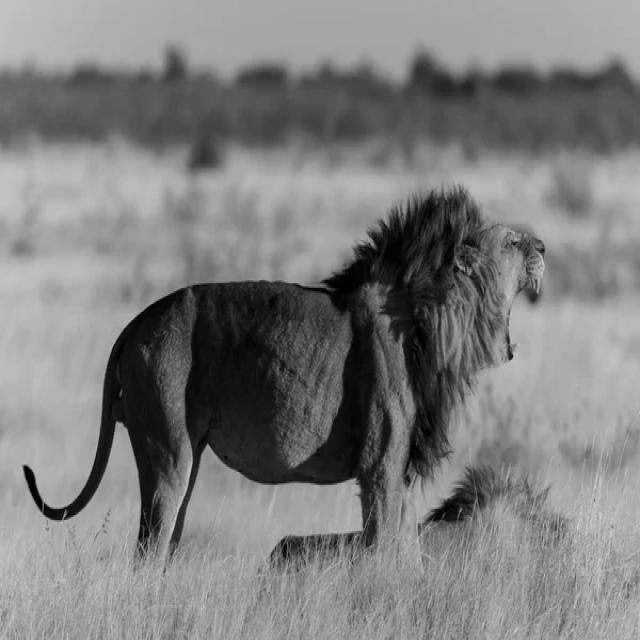Animal: (24, 188, 545, 562)
